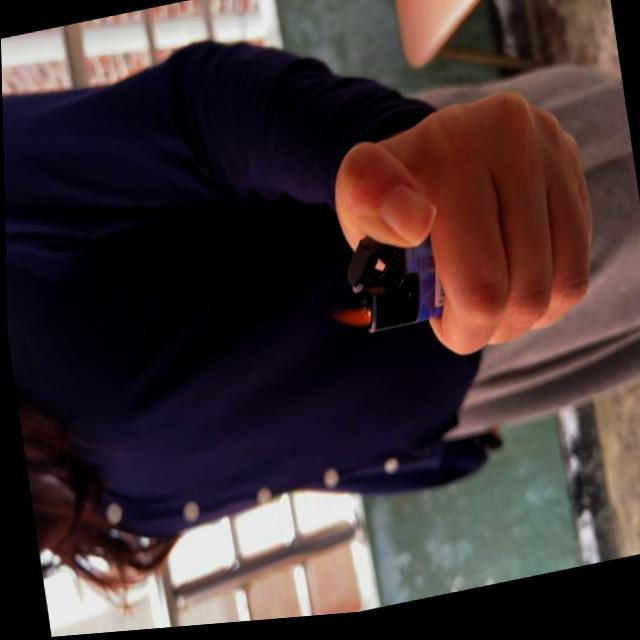Fire: (323, 305, 372, 342)
